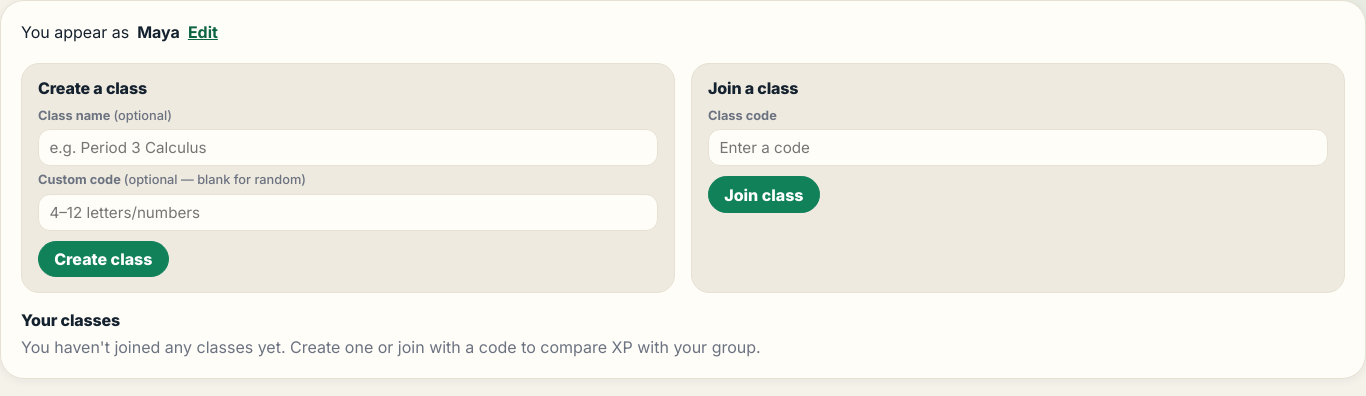
Test case: ClassesPanel join › shows an error for an unknown code
The image size is (1366, 396).
In the field labelled "Class code": [1018, 147] box top-left (708, 129), bottom-right (1328, 166), type "NOPE12"
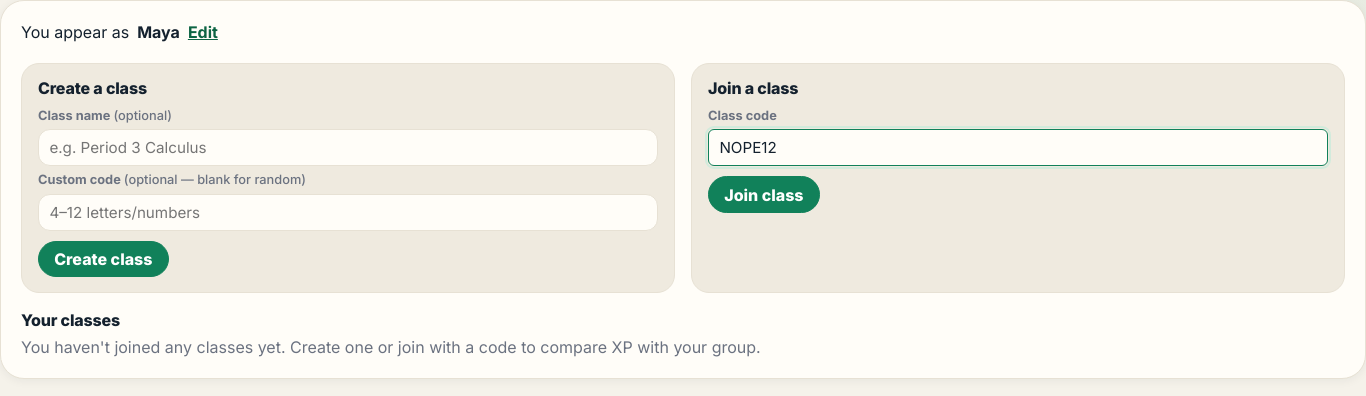
Click the button "Join class": [764, 194] box top-left (708, 176), bottom-right (820, 213)
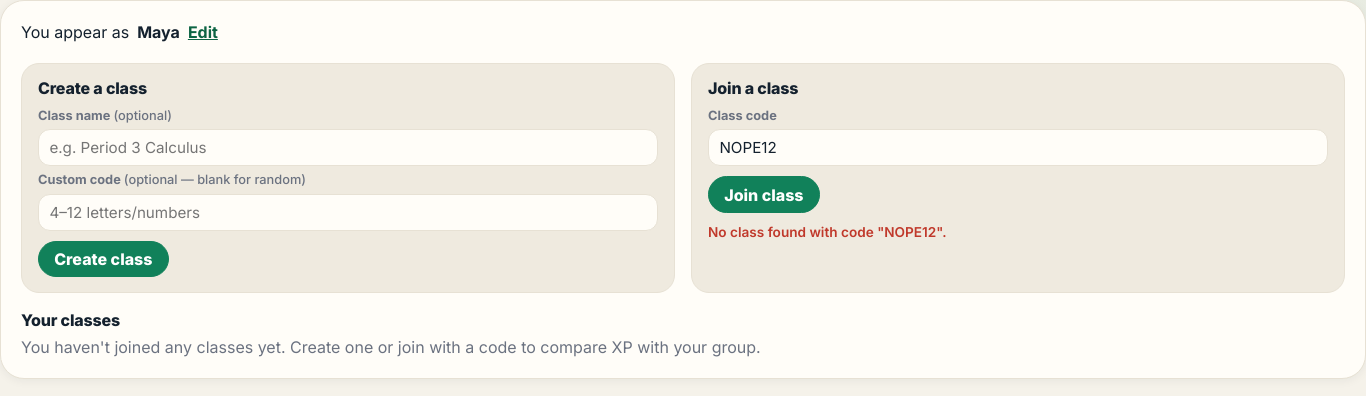
Expected: the message shows "No class found", top-left (708, 224), bottom-right (946, 240)
